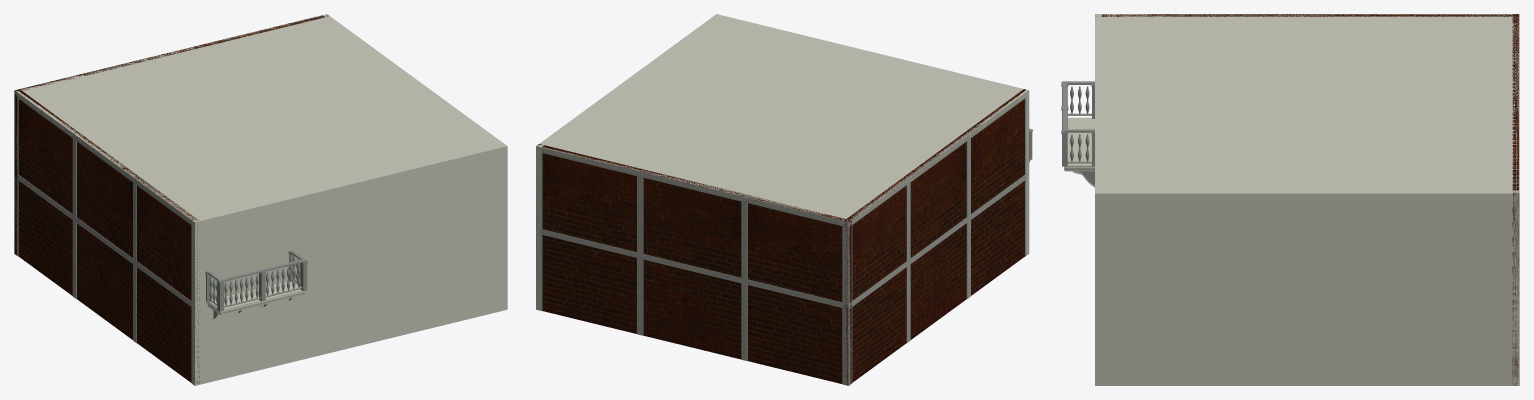
Rendered from building.glb.
3 renders of one model, left to right at view 1: azimuth 30°, elevation 25°; view 2: azimuth 150°, elevation 25°; view 3: azimuth 270°, elevation 25°, orthographic. The views are drawn at different scales.
Visible parts, largest first — view 1: roof/house:0/roof_slab#0001, house:0/edge0/z0/house:0/edge0/z0/wall_0_0, house:0/edge3/z0/house:0/edge3/z0/wall_0_0, house:0/edge2/z0/house:0/edge2/z0/wall_0_0, house:0/edge1/z0/house:0/edge1/z0/wall_0_0, house:0/edge3/z0/house:0/edge3/z0/beam_0_0, house:0/edge3/z0/house:0/edge3/z0/beam_1_0, balcony/sample/balcony_platform#0001, balcony/sample/balcony_handrail#0001, balcony/sample/balcony_fascia#0001; view 2: roof/house:0/roof_slab#0001, house:0/edge2/z0/house:0/edge2/z0/wall_0_0, house:0/edge3/z0/house:0/edge3/z0/wall_0_0, house:0/edge2/z0/house:0/edge2/z0/beam_0_0, house:0/edge1/z0/house:0/edge1/z0/wall_0_0, house:0/edge2/z0/house:0/edge2/z0/beam_1_0, house:0/edge0/z0/house:0/edge0/z0/wall_0_0, house:0/edge3/z0/house:0/edge3/z0/beam_0_0, house:0/edge3/z0/house:0/edge3/z0/beam_1_0, house:0/edge2/z0/house:0/edge2/z0/column_1_1, house:0/edge2/z0/house:0/edge2/z0/column_2_0, house:0/edge2/z0/house:0/edge2/z0/column_2_1 (+3 smaller); view 3: house:0/edge1/z0/house:0/edge1/z0/wall_0_0, roof/house:0/roof_slab#0001, house:0/edge0/z0/house:0/edge0/z0/wall_0_0, house:0/edge2/z0/house:0/edge2/z0/wall_0_0, house:0/edge3/z0/house:0/edge3/z0/wall_0_0, balcony/sample/balcony_platform#0001, balcony/sample/balcony_handrail#0001.
Boxes of the visible parts, x1,y1,x2,y2 form: roof/house:0/roof_slab#0001: (14, 16, 507, 224); house:0/edge0/z0/house:0/edge0/z0/wall_0_0: (192, 144, 507, 385); house:0/edge3/z0/house:0/edge3/z0/wall_0_0: (18, 89, 199, 383); house:0/edge2/z0/house:0/edge2/z0/wall_0_0: (14, 15, 328, 255); house:0/edge1/z0/house:0/edge1/z0/wall_0_0: (322, 14, 507, 310); house:0/edge3/z0/house:0/edge3/z0/beam_0_0: (14, 172, 194, 309); house:0/edge3/z0/house:0/edge3/z0/beam_1_0: (14, 90, 194, 225); balcony/sample/balcony_platform#0001: (208, 281, 302, 310); balcony/sample/balcony_handrail#0001: (206, 250, 306, 281); balcony/sample/balcony_fascia#0001: (207, 291, 304, 315); roof/house:0/roof_slab#0001: (536, 14, 1028, 225); house:0/edge2/z0/house:0/edge2/z0/wall_0_0: (537, 144, 851, 384); house:0/edge3/z0/house:0/edge3/z0/wall_0_0: (843, 89, 1025, 385); house:0/edge2/z0/house:0/edge2/z0/beam_0_0: (536, 228, 848, 309); house:0/edge1/z0/house:0/edge1/z0/wall_0_0: (536, 15, 720, 310); house:0/edge2/z0/house:0/edge2/z0/beam_1_0: (536, 146, 848, 227); house:0/edge0/z0/house:0/edge0/z0/wall_0_0: (714, 14, 1029, 255); house:0/edge3/z0/house:0/edge3/z0/beam_0_0: (848, 173, 1028, 309); house:0/edge3/z0/house:0/edge3/z0/beam_1_0: (848, 90, 1028, 227); house:0/edge2/z0/house:0/edge2/z0/column_1_1: (842, 226, 848, 303); house:0/edge2/z0/house:0/edge2/z0/column_2_0: (637, 176, 643, 253); house:0/edge2/z0/house:0/edge2/z0/column_2_1: (637, 258, 643, 335); house:0/edge1/z0/house:0/edge1/z0/wall_0_0: (1095, 190, 1519, 385); roof/house:0/roof_slab#0001: (1095, 14, 1519, 197); house:0/edge0/z0/house:0/edge0/z0/wall_0_0: (1095, 14, 1101, 385); house:0/edge2/z0/house:0/edge2/z0/wall_0_0: (1512, 14, 1518, 385); house:0/edge3/z0/house:0/edge3/z0/wall_0_0: (1095, 14, 1512, 16); balcony/sample/balcony_platform#0001: (1065, 117, 1094, 166); balcony/sample/balcony_handrail#0001: (1062, 81, 1094, 132).
Size of the model in its own units: 12 by 6 by 12.95.
Materials: 4 (1 with a texture image).
